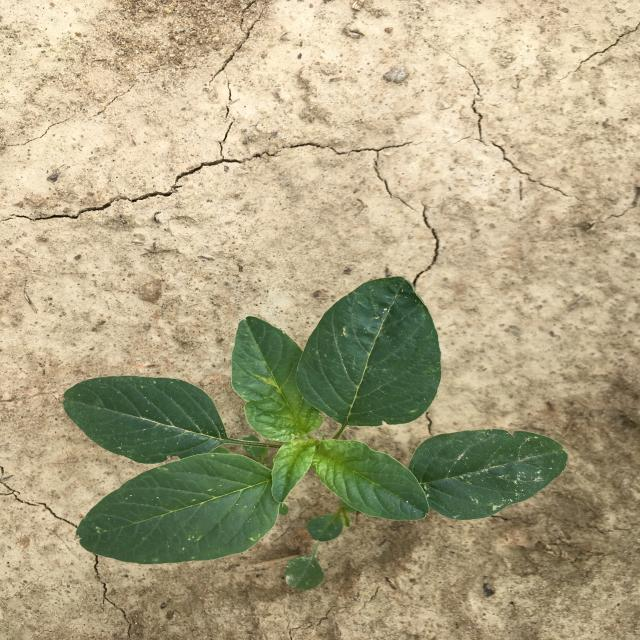PalmerAmaranth: (63, 276, 568, 591)
